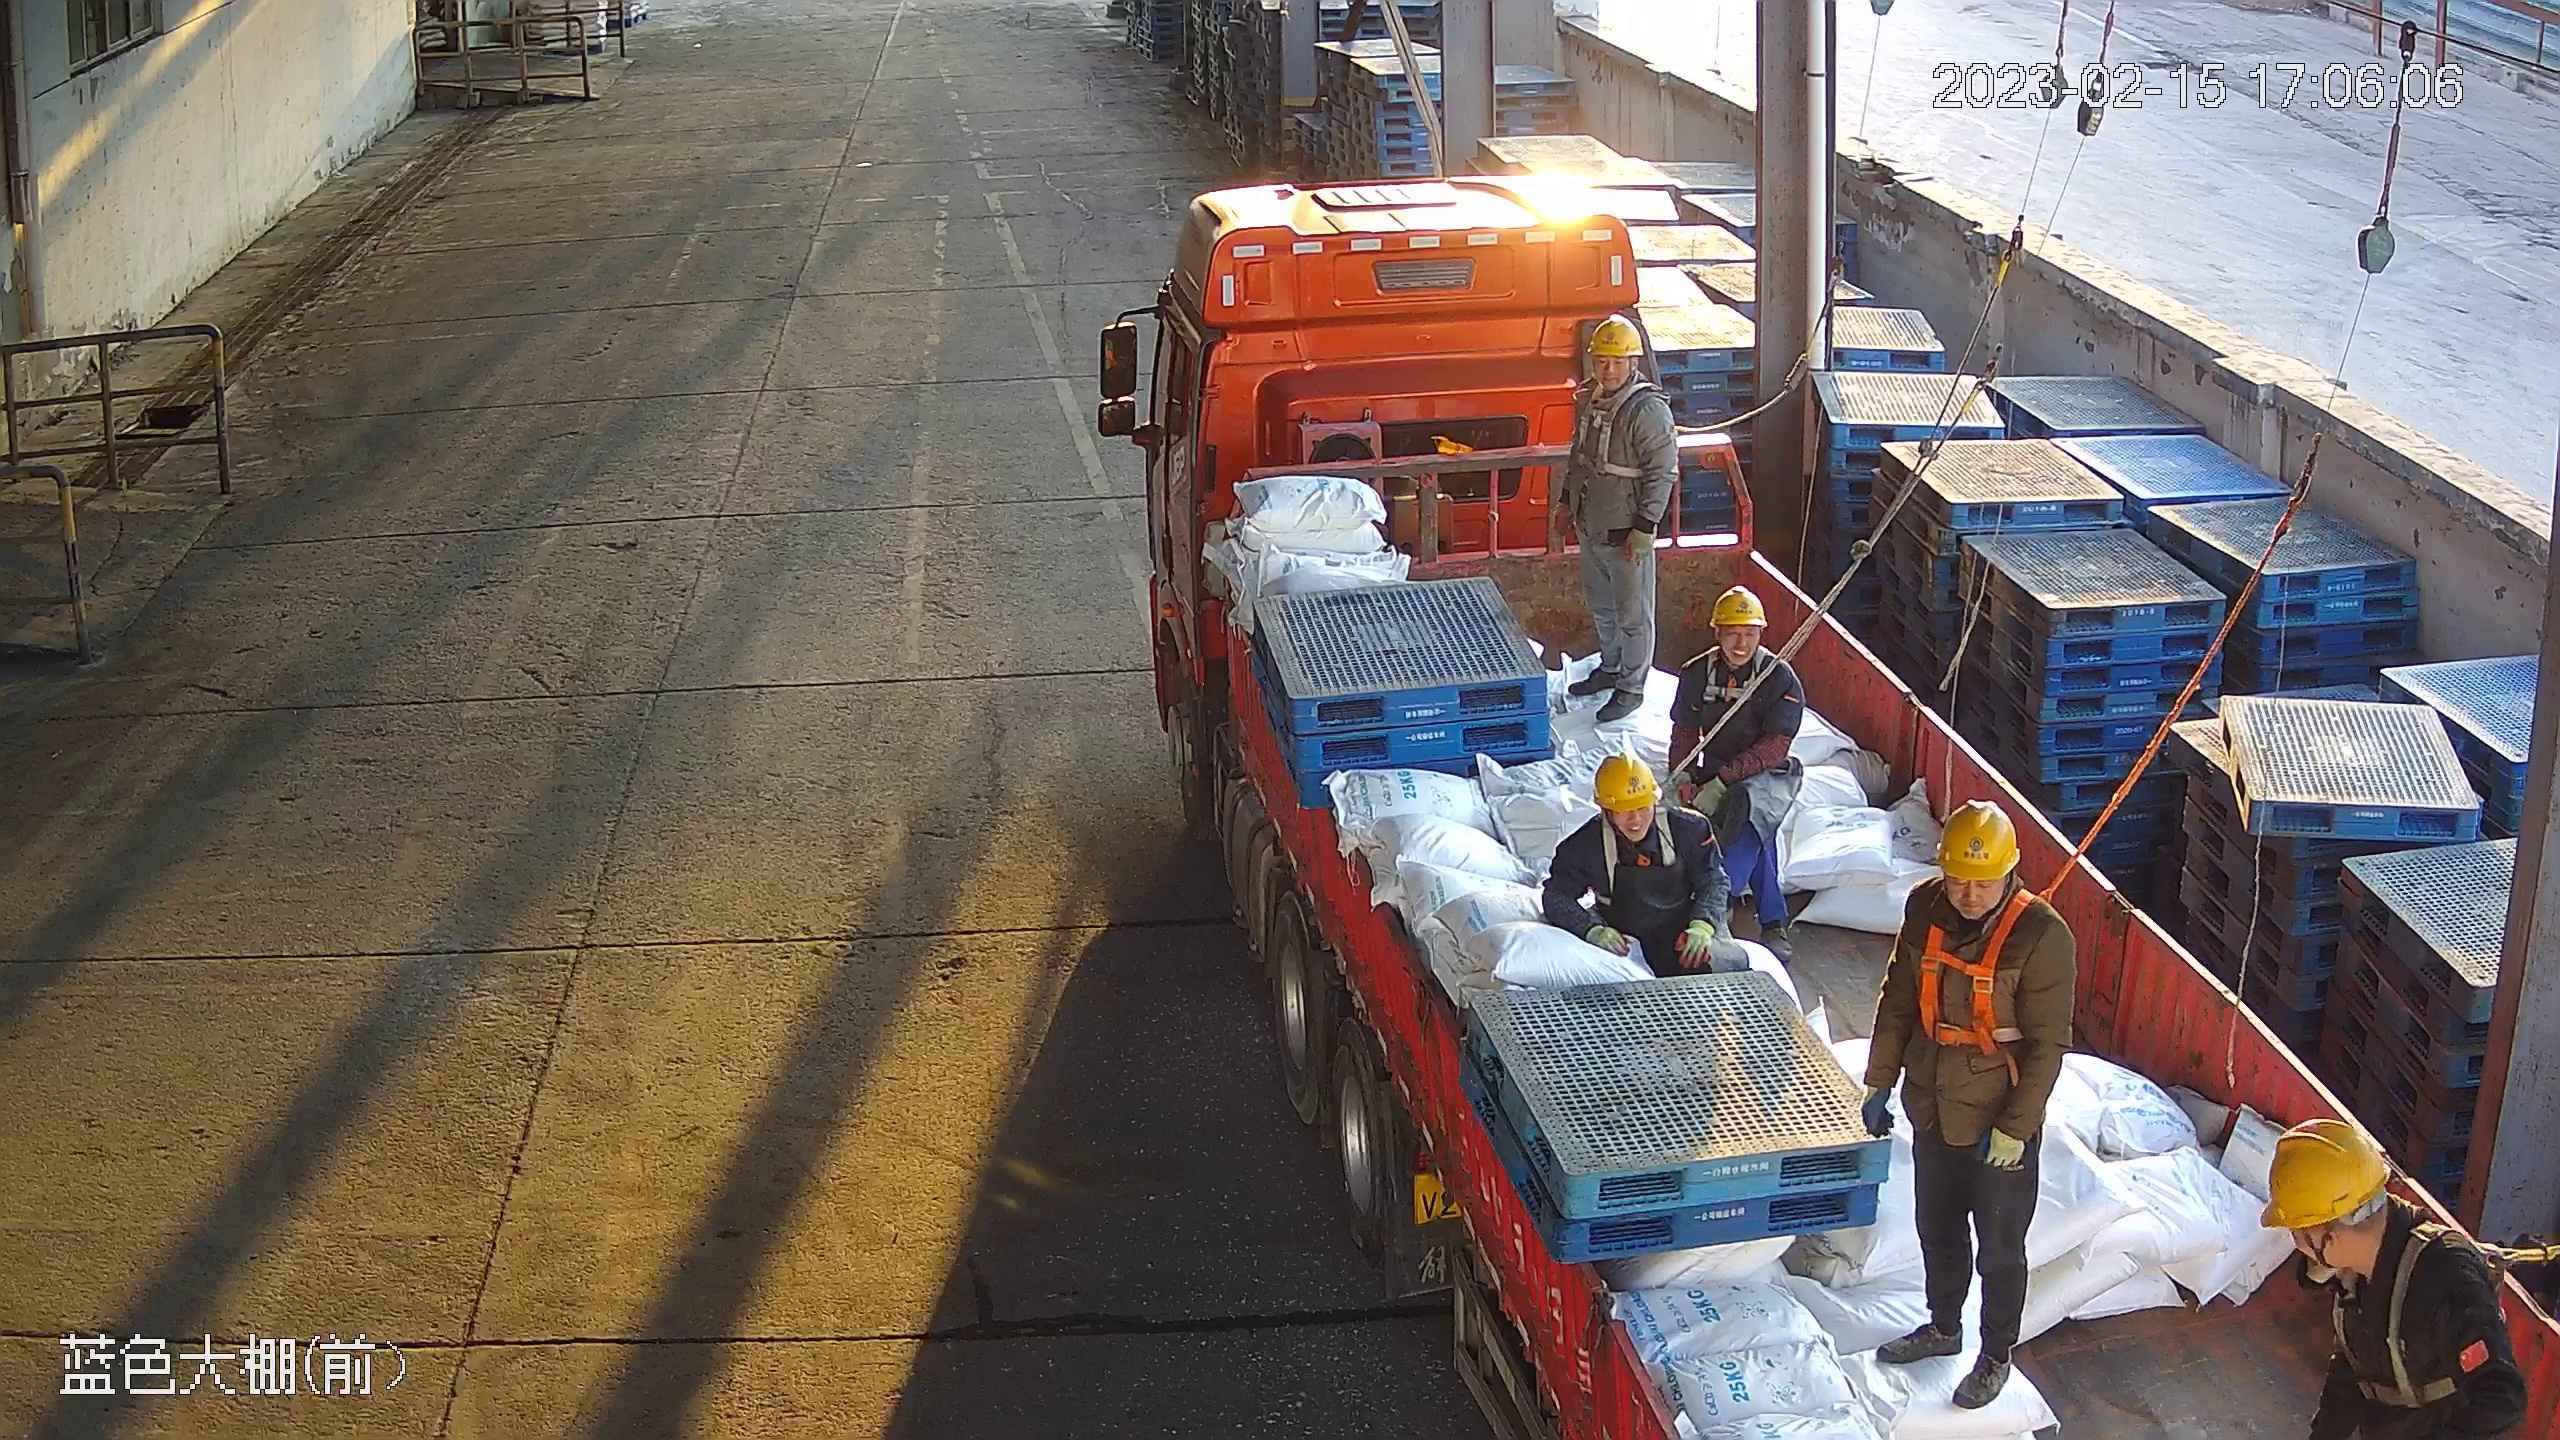belt: (2313, 1222, 2560, 1408), (1893, 883, 2060, 1054), (1564, 377, 1658, 480), (1589, 810, 1678, 886), (1705, 645, 1767, 704)
head: (2257, 1117, 2527, 1398), (1859, 798, 2076, 986), (1559, 754, 1722, 896), (1673, 586, 1800, 710), (1561, 303, 1674, 435)
helmet: (2261, 1120, 2391, 1230), (1935, 801, 2022, 883), (1591, 754, 1662, 811), (1584, 313, 1647, 356), (1708, 587, 1767, 629)
people: (1859, 800, 2074, 1411), (1667, 586, 1808, 961), (1561, 306, 1674, 728), (1542, 752, 1747, 978)
truck: (1091, 171, 2560, 1440)
